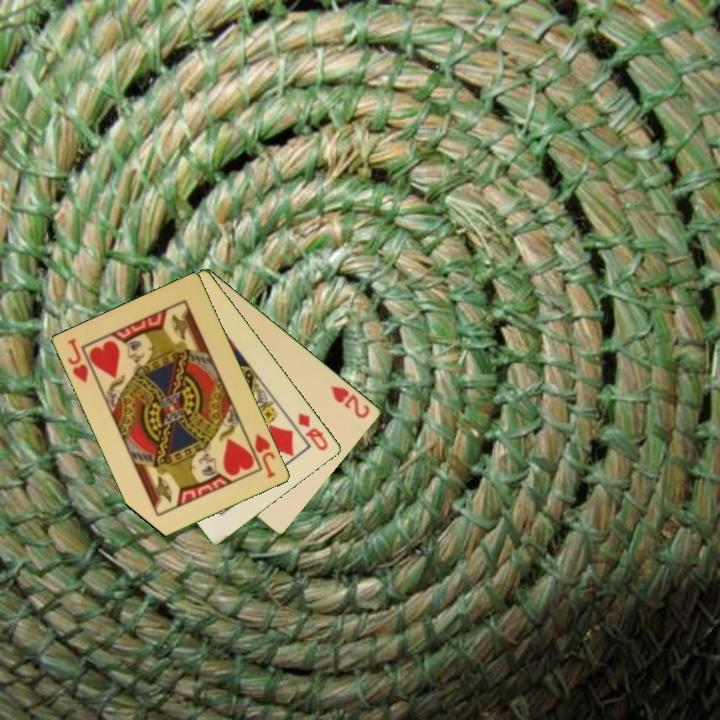2h: (327, 382, 373, 421)
Jh: (243, 430, 279, 481), (64, 335, 92, 386)
Qd: (295, 409, 331, 454)
